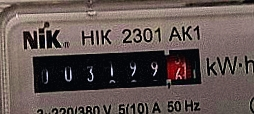0: (62, 64, 74, 83), (39, 66, 49, 84)
1: (106, 59, 116, 78)
3: (84, 63, 95, 84)
6: (172, 65, 183, 80)
9: (127, 58, 138, 78), (149, 59, 160, 77)
screen: (24, 39, 208, 100)
